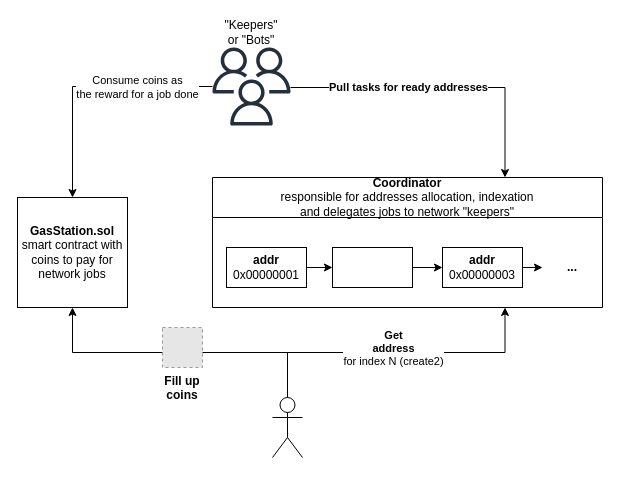
Image size: 620x495. Some labels were removed from this diagram. Grey dashed boxes stand in for pictures. Here are the shapes that lost their labels. From the top down, the centre of each, then its label:
the point at 372,267: addr 0x00000002
the point at 287,427: User
